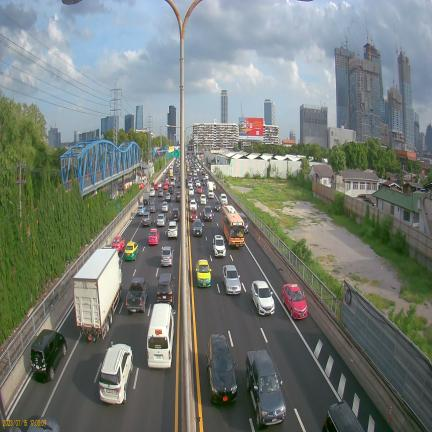bus: (221, 205, 244, 247)
car: (99, 343, 133, 404), (207, 334, 237, 402), (30, 329, 67, 381), (251, 281, 275, 315), (157, 273, 175, 306), (222, 265, 241, 294), (213, 235, 226, 257), (161, 246, 174, 266), (238, 211, 248, 233), (167, 220, 178, 238), (193, 218, 203, 236), (142, 212, 152, 226), (203, 206, 212, 220), (171, 208, 180, 221), (157, 213, 166, 226), (137, 204, 145, 216), (189, 198, 197, 210), (220, 193, 228, 205), (190, 210, 198, 222), (213, 200, 221, 211), (161, 201, 168, 212), (200, 194, 206, 205), (164, 192, 171, 201), (149, 203, 156, 212), (143, 198, 149, 207), (176, 192, 181, 202), (170, 176, 175, 186), (149, 188, 155, 196), (189, 187, 194, 196), (168, 185, 173, 194), (197, 185, 202, 194), (202, 179, 208, 186), (163, 183, 169, 190), (194, 172, 198, 182), (158, 189, 163, 197), (154, 182, 159, 190), (188, 180, 193, 188), (196, 179, 201, 186), (158, 181, 162, 189), (205, 173, 209, 180), (177, 182, 181, 188), (196, 185, 197, 185)
pickup: (246, 350, 286, 428), (126, 277, 148, 312), (208, 181, 214, 198)
taxi: (282, 284, 307, 319), (196, 259, 211, 287), (124, 241, 138, 260), (111, 236, 125, 253), (148, 229, 160, 245)
truck: (73, 248, 122, 341)
van: (147, 303, 174, 368), (322, 401, 364, 432)
